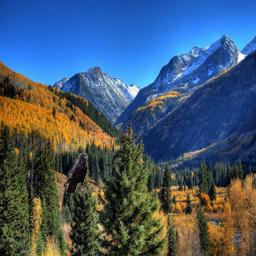Crow: (66, 153, 88, 193)
